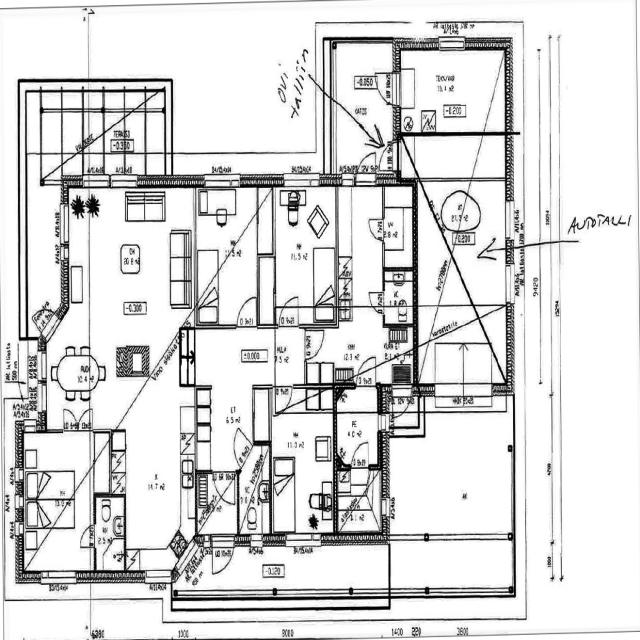door: (210, 533, 237, 576), (210, 470, 237, 511), (303, 325, 326, 362), (236, 293, 259, 327), (61, 406, 91, 431), (356, 152, 378, 186), (355, 358, 378, 387), (350, 438, 370, 469), (273, 383, 293, 413), (366, 215, 386, 242), (280, 293, 300, 319), (78, 523, 96, 550)
window: (428, 582, 475, 600), (349, 586, 387, 607), (142, 564, 174, 586), (390, 583, 427, 602), (202, 174, 241, 192), (283, 171, 322, 189), (41, 567, 79, 585), (284, 531, 320, 550), (437, 34, 467, 54), (59, 202, 71, 248), (503, 260, 514, 306), (503, 197, 514, 242), (248, 534, 265, 554)
zone: (71, 185, 192, 318), (194, 333, 262, 471), (195, 185, 260, 324), (399, 47, 505, 132), (272, 396, 334, 540), (270, 187, 338, 318), (332, 44, 398, 167), (30, 432, 81, 531), (271, 185, 337, 243), (334, 397, 380, 464), (336, 466, 379, 532), (333, 42, 393, 89), (456, 341, 496, 407), (239, 457, 271, 538), (94, 494, 126, 570), (383, 185, 413, 265), (274, 324, 306, 388), (434, 339, 466, 403), (440, 188, 481, 234), (382, 267, 415, 324), (200, 470, 237, 520)
